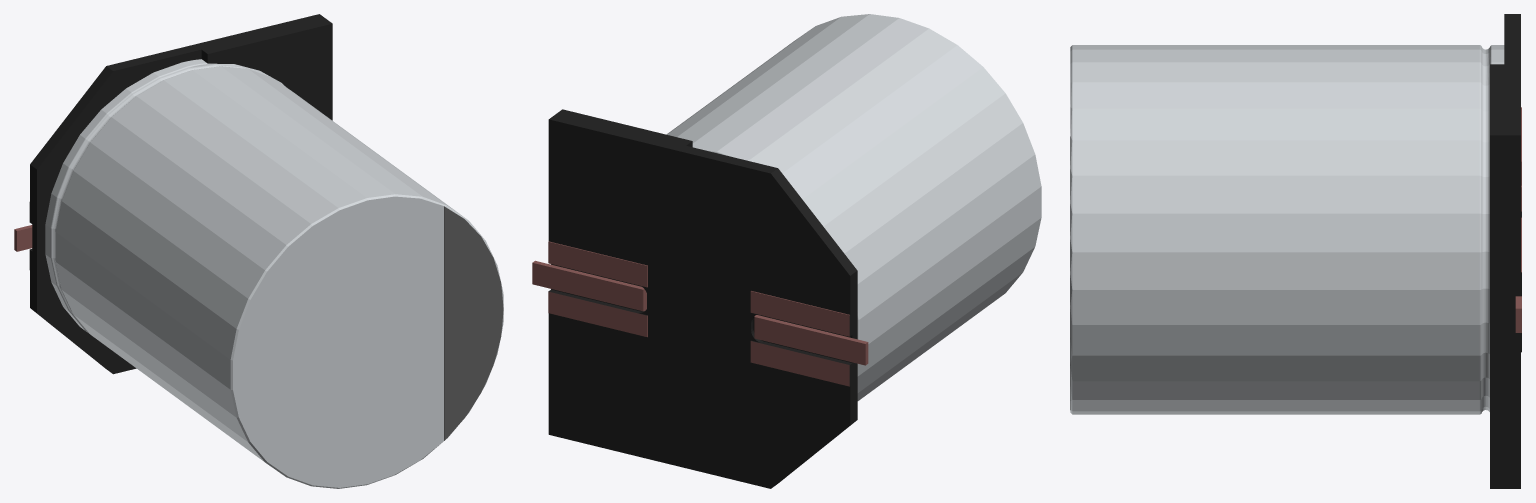
The model's file is Vishay 146 CTI 1821.obj.
3 views of the same model, side by side, from view 1: azimuth 30°, elevation 25°; view 2: azimuth 150°, elevation 25°; view 3: azimuth 270°, elevation 25° (orthographic). The views are drawn at different scales.
Parts seen in each view (by area): view 1: Vishay_146_CTI_1821; view 2: Vishay_146_CTI_1821; view 3: Vishay_146_CTI_1821.
Part boxes in pixels (x1,y1,x2,y2): Vishay_146_CTI_1821: (14, 14, 503, 488); Vishay_146_CTI_1821: (532, 14, 1041, 488); Vishay_146_CTI_1821: (1070, 14, 1521, 488).
Size of the model in its own units: 0.0145 by 0.0131 by 0.0152.
